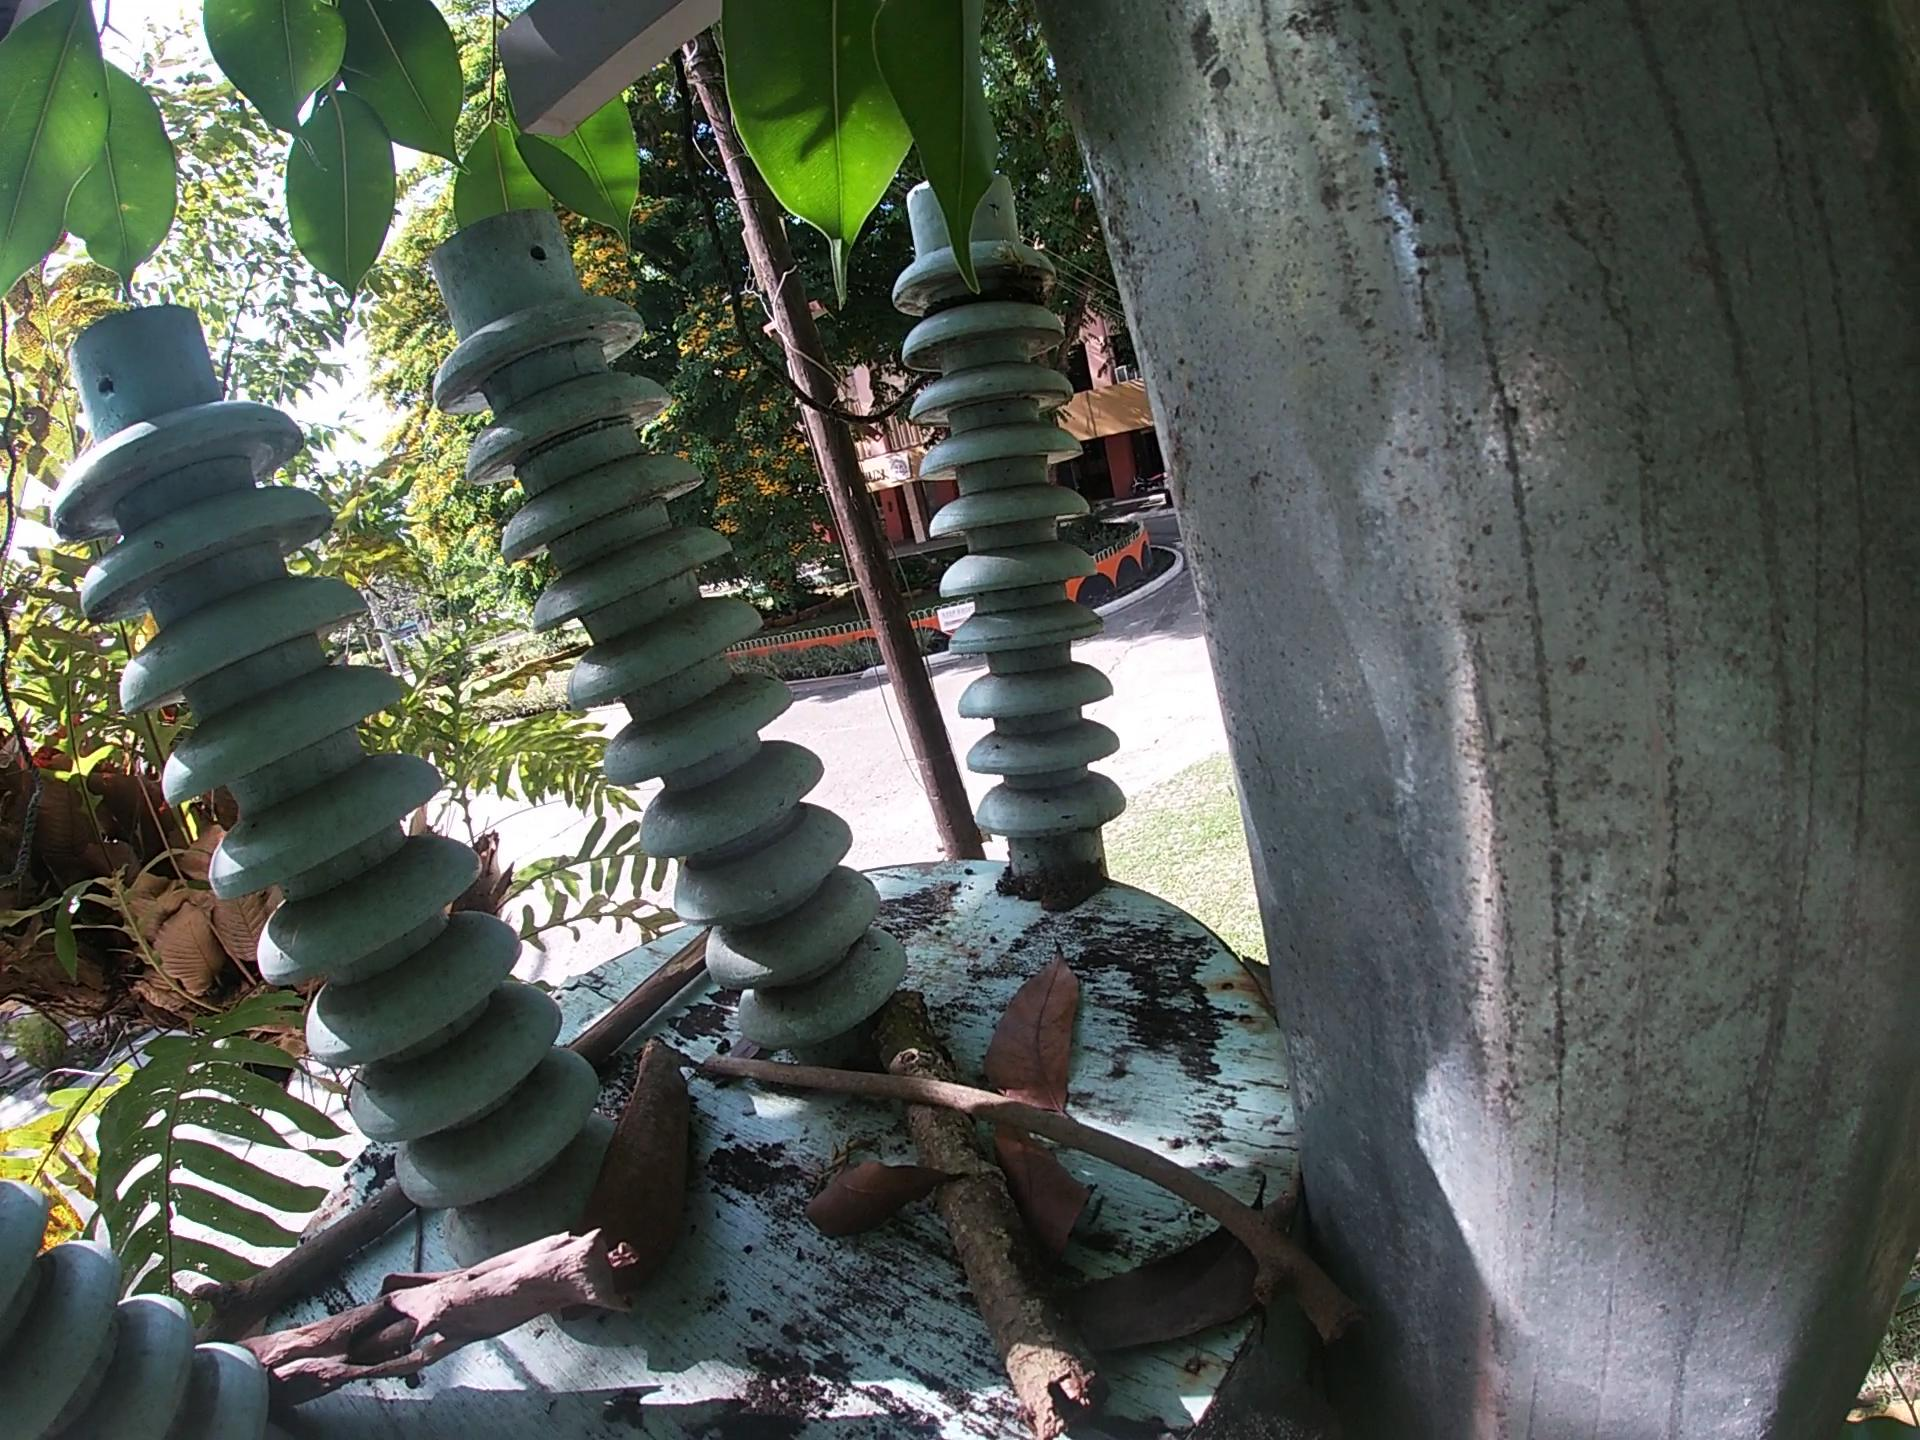leaf: (1051, 1159, 1285, 1375), (974, 936, 1101, 1125), (797, 1153, 969, 1248), (986, 1125, 1095, 1272)
mahogany fruit: (556, 1029, 708, 1336)
tree branch: (700, 1048, 1367, 1352), (851, 976, 1123, 1440), (228, 1218, 652, 1420), (192, 1172, 431, 1352), (565, 918, 726, 1066)
